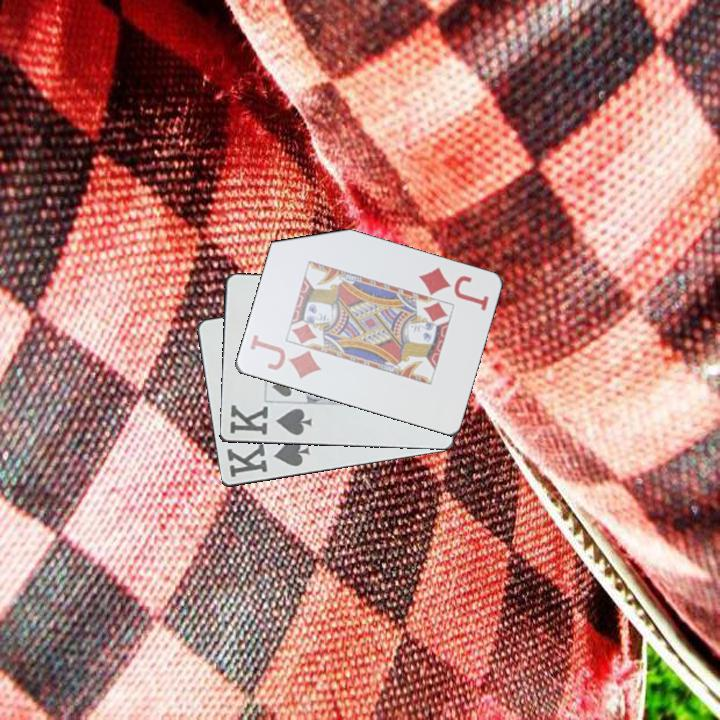Jd: (414, 263, 492, 314), (246, 332, 324, 382)
Ks: (223, 436, 313, 481), (226, 402, 315, 438)
